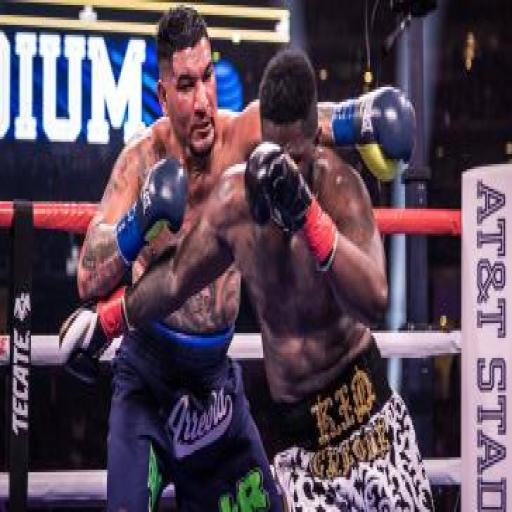boxing: (58, 5, 430, 509)
